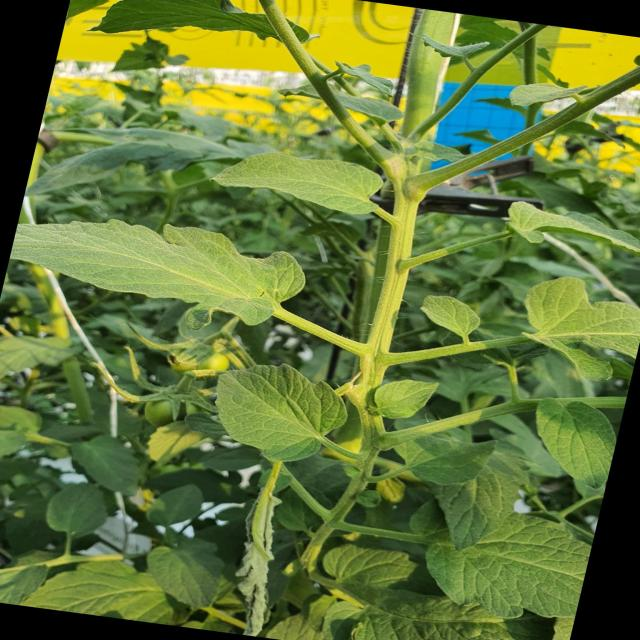Healthy Leaf: (2, 216, 350, 321), (430, 507, 640, 631), (190, 359, 364, 479), (214, 144, 404, 230), (514, 269, 640, 396), (519, 400, 639, 492), (126, 536, 240, 612), (368, 364, 465, 426), (53, 474, 124, 545), (401, 294, 485, 346), (50, 469, 55, 471)
